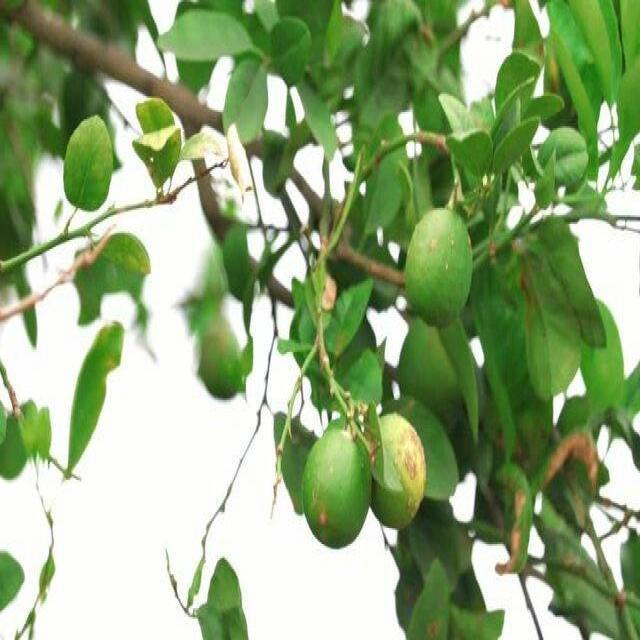Jeruk Belum Matang: (305, 428, 371, 550), (406, 208, 473, 327), (372, 411, 428, 537)
